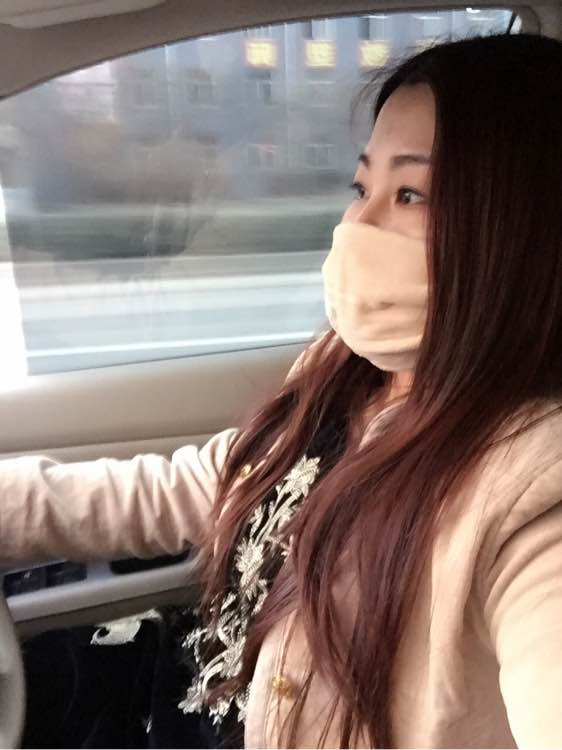face_mask: (319, 104, 435, 370)
